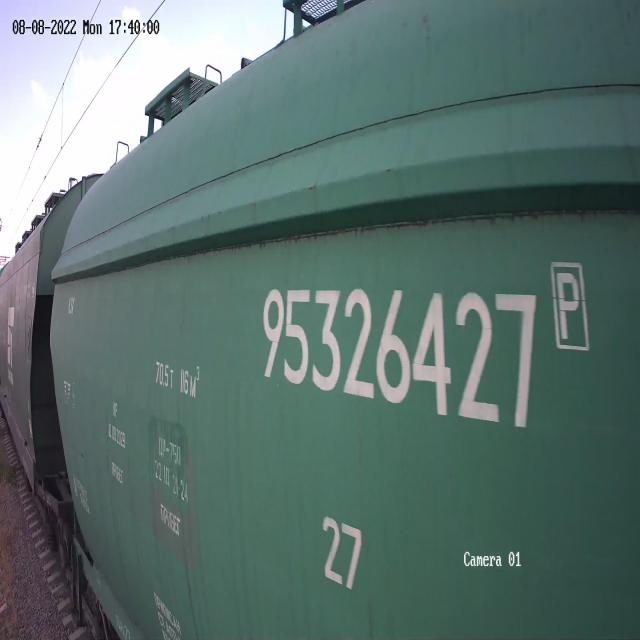hopper: (43, 0, 640, 640), (0, 151, 107, 510)
